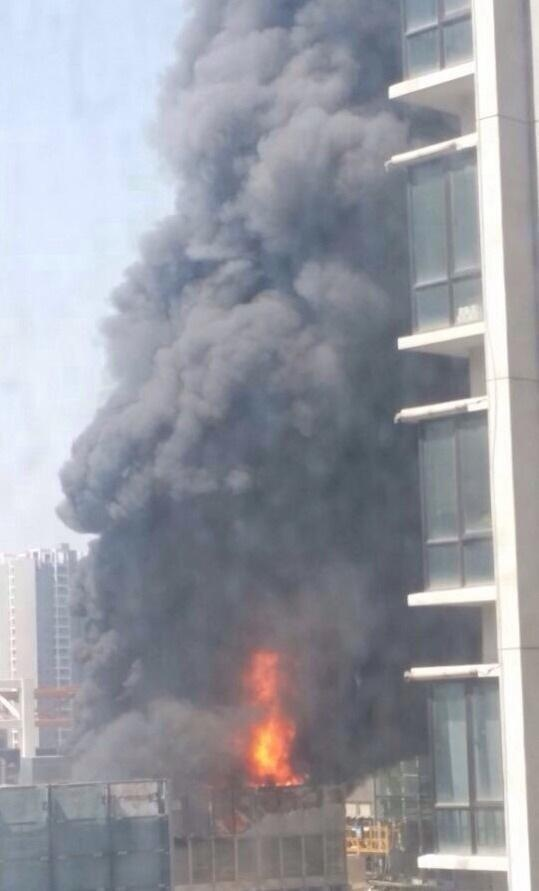fire: (245, 658, 297, 787)
